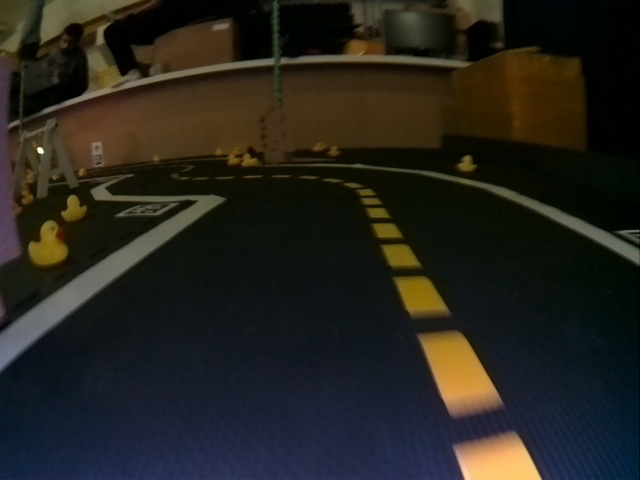Duckie: (30, 220, 68, 265), (61, 195, 87, 221), (458, 155, 476, 172), (243, 154, 258, 166), (22, 193, 33, 203), (228, 154, 238, 164), (330, 146, 340, 156), (313, 142, 323, 151), (78, 168, 86, 177)
QR code: (119, 203, 173, 215)
